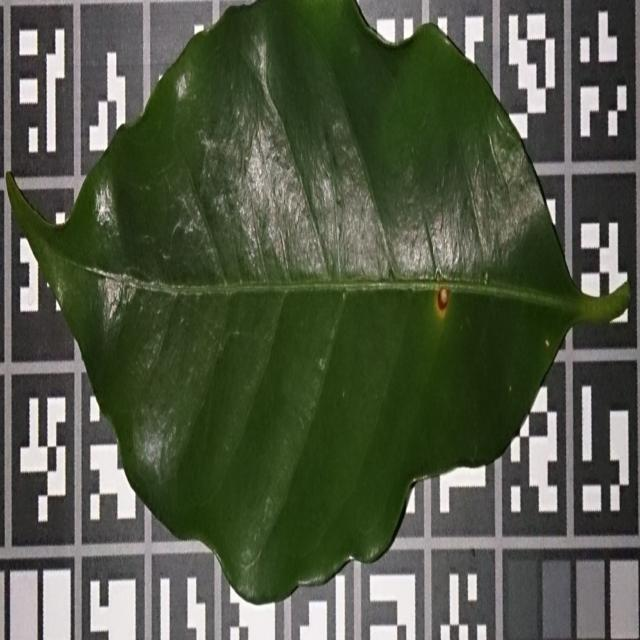Enfermedad-Mancha-de-hierro: (11, 0, 623, 609)
